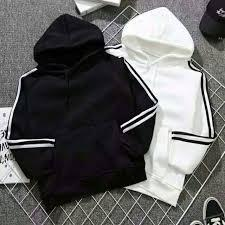sweater: (7, 14, 155, 207), (103, 5, 220, 208)
